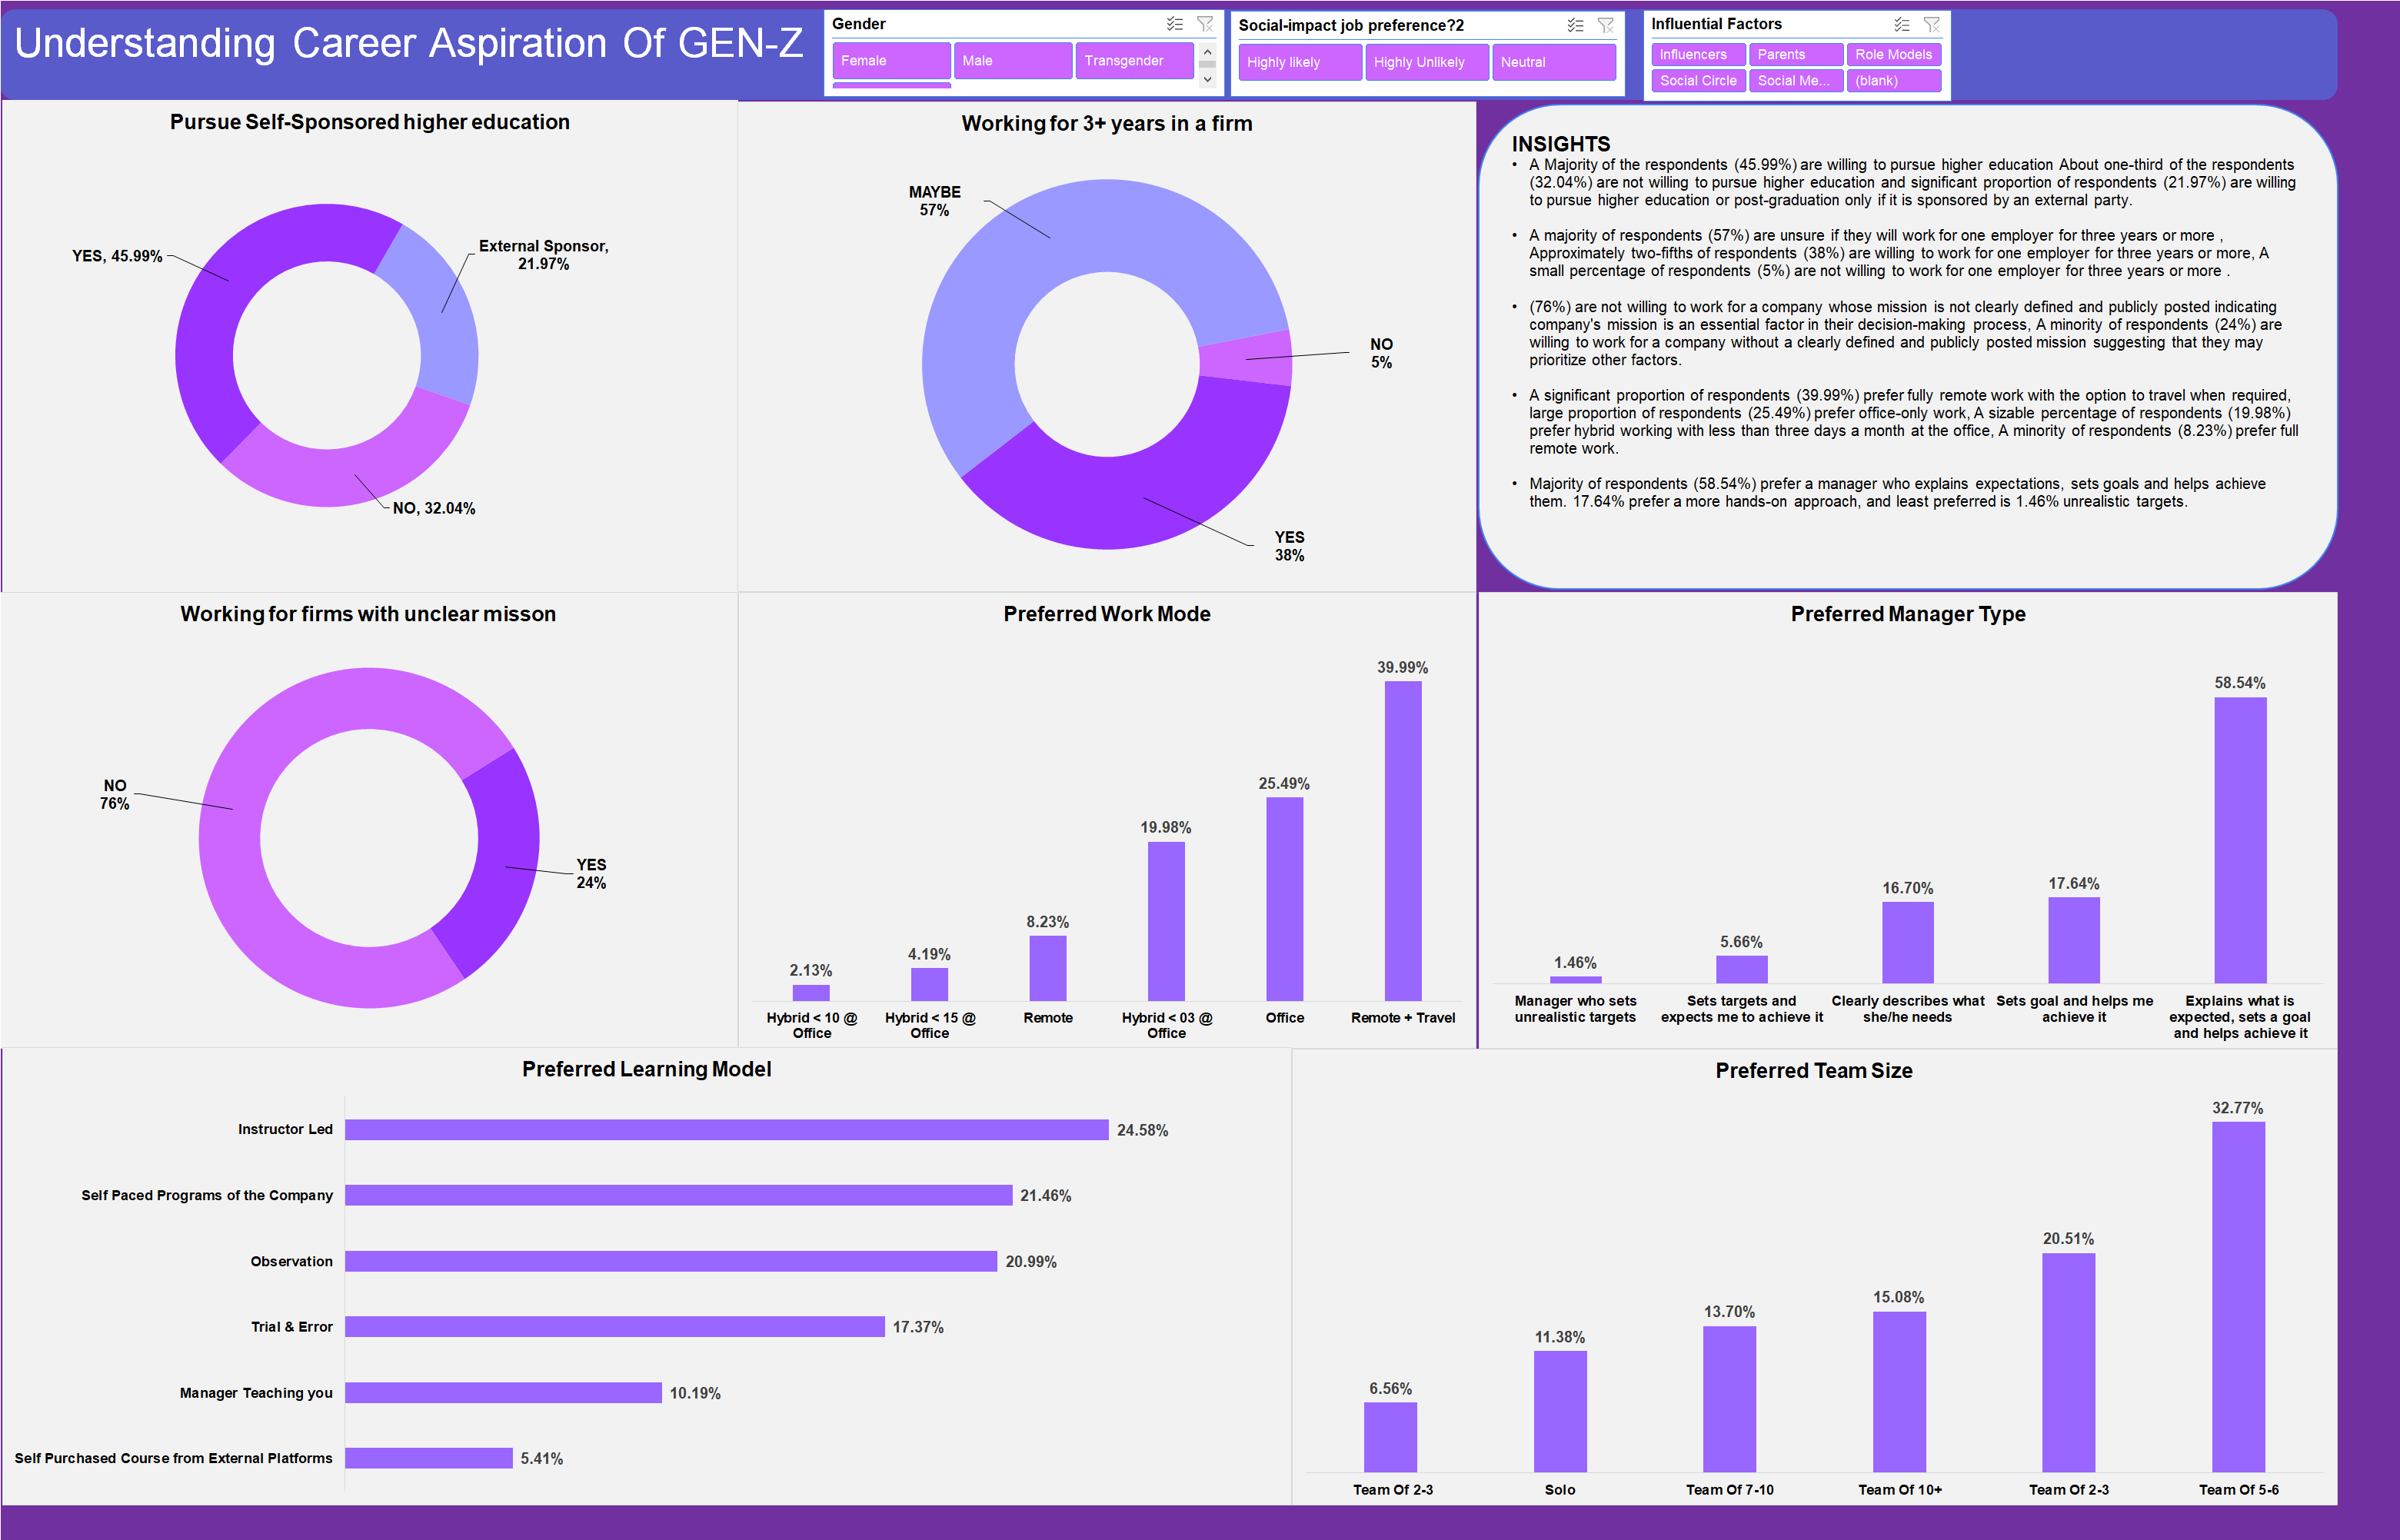

This screenshot's page, from the dashboard's own definition file:
{"tool":"powerbi","page":{"name":"Page 1","canvas":[3500,2500],"ordinal":0},"visuals":[{"type":"donutChart","title":"Self Sponsored PG","fields":{"Category":["Sheet1.Self Sponsored PG?"],"Y":["CountNonNull(Sheet1.Self Sponsored PG?)"]},"box":[0,485,1110,606.7],"z":0},{"type":"actionButton","box":[0,0,100,40],"z":1000},{"type":"donutChart","title":"3+ years in one firm ?","fields":{"Category":["Sheet1.3+ years in one firm ?"],"Y":["CountNonNull(Sheet1.3+ years in one firm ?)"]},"box":[2220,485,1060,613.3],"z":2000},{"type":"donutChart","title":"Misleading company","fields":{"Category":["Sheet1.Misleading company"],"Y":["CountNonNull(Sheet1.Misleading company)"]},"box":[1110,485,1110,610],"z":3000},{"type":"clusteredBarChart","title":"Career Options","fields":{"Category":["Sheet1.Career Options"],"Y":["CountNonNull(Sheet1.Career Options)"]},"box":[1110,1095,2170,600],"z":4000},{"type":"clusteredColumnChart","title":"Preferred Work-Model","fields":{"Category":["Sheet1.Preferred Work-Model"],"Y":["CountNonNull(Sheet1.Preferred Work-Model)"]},"box":[0,1695,1110,596.7],"z":5000},{"type":"clusteredColumnChart","title":"Preferred Manager Type","fields":{"Category":["Sheet1.Preferred Manager Type"],"Y":["CountNonNull(Sheet1.Preferred Manager Type)"]},"box":[2220,1695,1060,596.7],"z":6000},{"type":"clusteredColumnChart","title":"Preferred Team Size","fields":{"Category":["Sheet1.Preferred Team Size"],"Y":["CountNonNull(Sheet1.Preferred Team Size)"]},"box":[1110,1695,1110,596.7],"z":7000},{"type":"clusteredColumnChart","title":"Preferred Learning Model","fields":{"Category":["Sheet1.Preferred Learning Model"],"Y":["Divide(CountNonNull(Sheet1.Preferred Learning Model), ScopedEval(CountNonNull(Sheet1.Preferred Learning Model), []))"]},"box":[0,1091.7,1110,603.3],"z":8000},{"type":"slicer","title":"Gender","fields":{"Values":["Sheet1.Gender"]},"box":[0,235,1110,250],"z":9000},{"type":"slicer","title":"Influential Factors","fields":{"Values":["Sheet1.Influential Factors"]},"box":[1110,235,1083.3,250],"z":10000},{"type":"slicer","title":"Social Impact Job","fields":{"Values":["Sheet1.Social Imapct Job"]},"box":[2196.7,235,1083.3,250],"z":11000},{"type":"shape","box":[110,0,3280,185],"z":12000}]}

Visuals, with their boxes on the page's 3500x2500 design canvas (x1, y1, x2, y2). These are canvas units, not pixel positions in the 2400x1540 screenshot, which may show the page scaled, cropped or inside an application window:
"Self Sponsored PG" donutChart: BBox(0, 485, 1110, 1092)
actionButton: BBox(0, 0, 100, 40)
"3+ years in one firm ?" donutChart: BBox(2220, 485, 3280, 1098)
"Misleading company" donutChart: BBox(1110, 485, 2220, 1095)
"Career Options" clusteredBarChart: BBox(1110, 1095, 3280, 1695)
"Preferred Work-Model" clusteredColumnChart: BBox(0, 1695, 1110, 2292)
"Preferred Manager Type" clusteredColumnChart: BBox(2220, 1695, 3280, 2292)
"Preferred Team Size" clusteredColumnChart: BBox(1110, 1695, 2220, 2292)
"Preferred Learning Model" clusteredColumnChart: BBox(0, 1092, 1110, 1695)
"Gender" slicer: BBox(0, 235, 1110, 485)
"Influential Factors" slicer: BBox(1110, 235, 2193, 485)
"Social Impact Job" slicer: BBox(2197, 235, 3280, 485)
shape: BBox(110, 0, 3390, 185)
